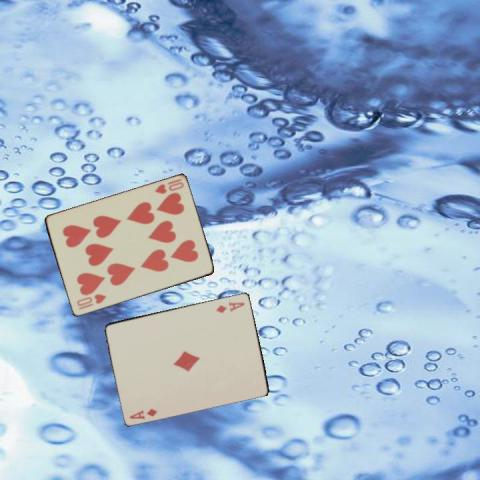10h: (74, 292, 107, 312), (151, 176, 185, 195)
Ad: (213, 299, 246, 314), (127, 405, 159, 420)
